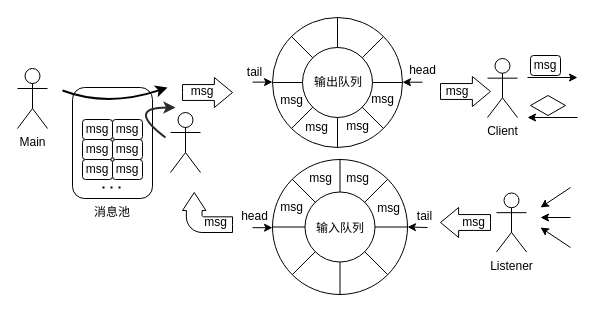
The diagram is 603 pixels wide and 313 high, and some of its shapes have lost their labels. The centre of each missing label's shape, as x and y in pixels:
"ack" belongs at pixel 548 105.
"Server" belongs at pixel 185 142.
